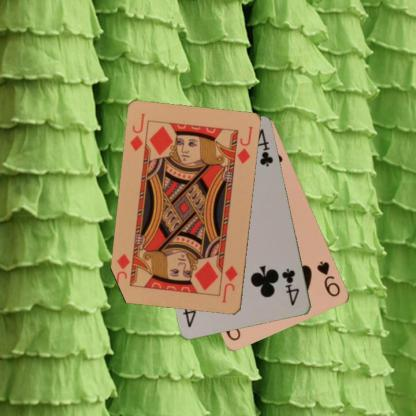4c: (279, 266, 301, 307)
9s: (314, 258, 342, 298)
Jd: (220, 264, 239, 304), (128, 111, 146, 152)
